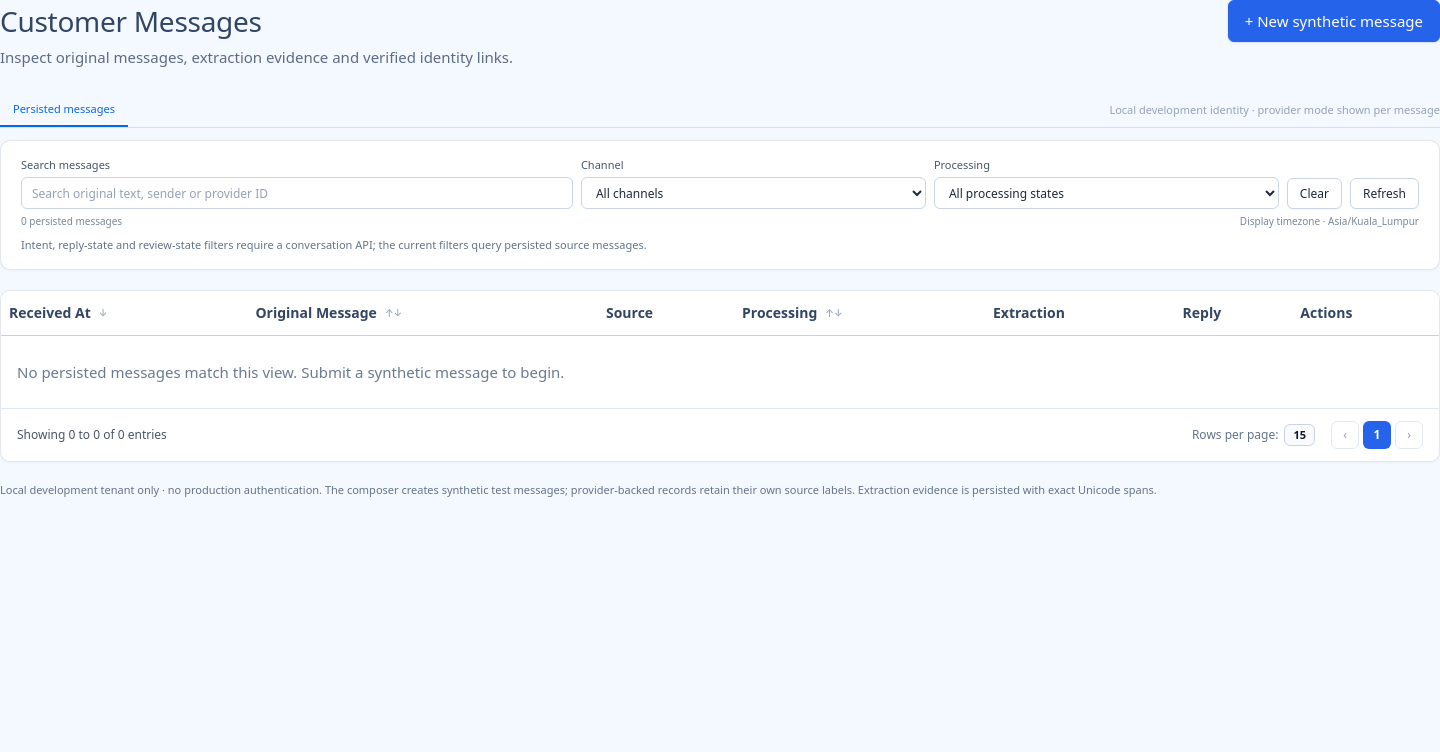
durable synthetic Inbox › retries the identical frozen payload after an uncertain response and prevents parallel submits
The width and height of the screenshot is (1440, 752).
Expected: the text "0 persisted messages" is shown, [21,214,122,229]
Click the button "+ New synthetic message": coordinates (1334, 21) [1228,0,1439,42]
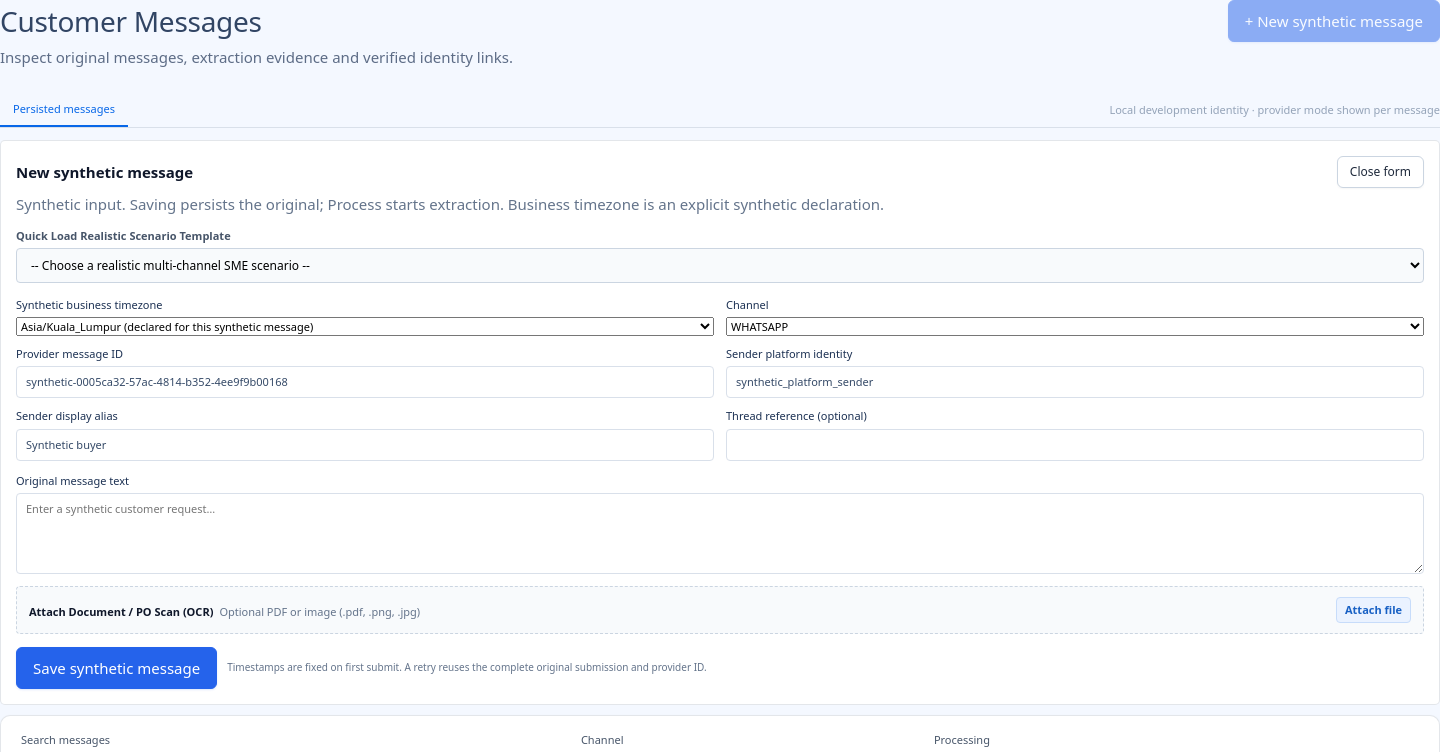
In the text box labelled "Original message text": coordinates (720, 533) [16,493,1424,574], type "Synthetic retry example"
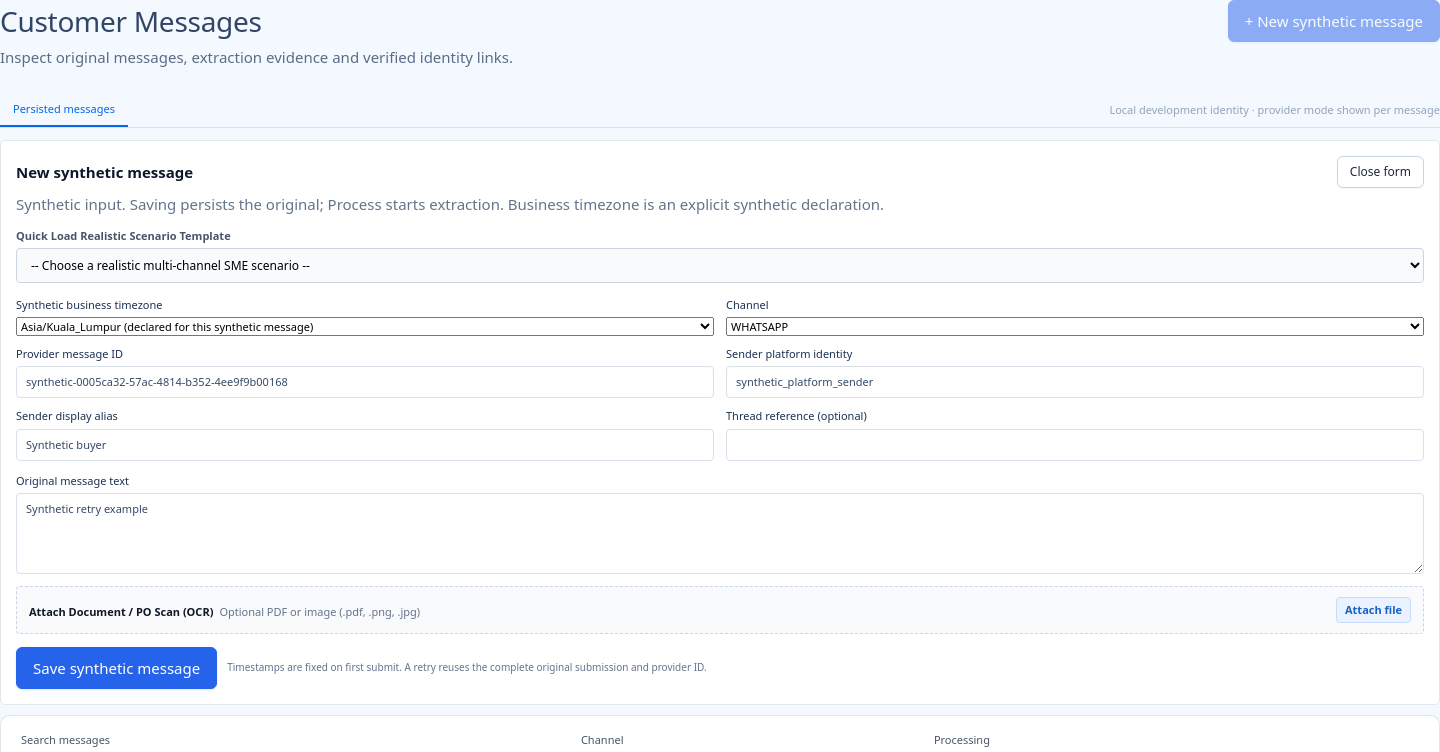
Click the button "Save synthetic message": coordinates (117, 668) [16,647,217,689]
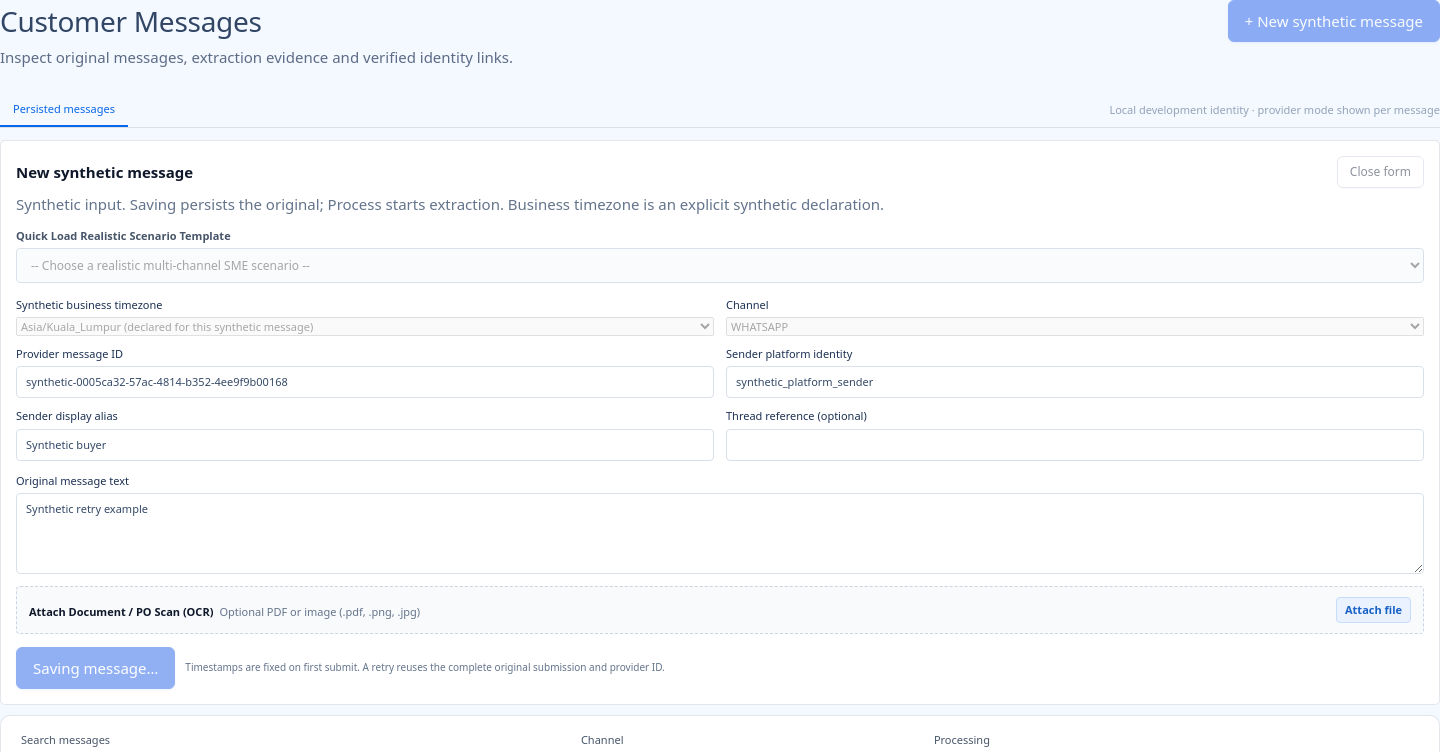
Expected: the button "Saving message…" is disabled
Click the button "Saving message…": coordinates (96, 668) [16,647,175,689]
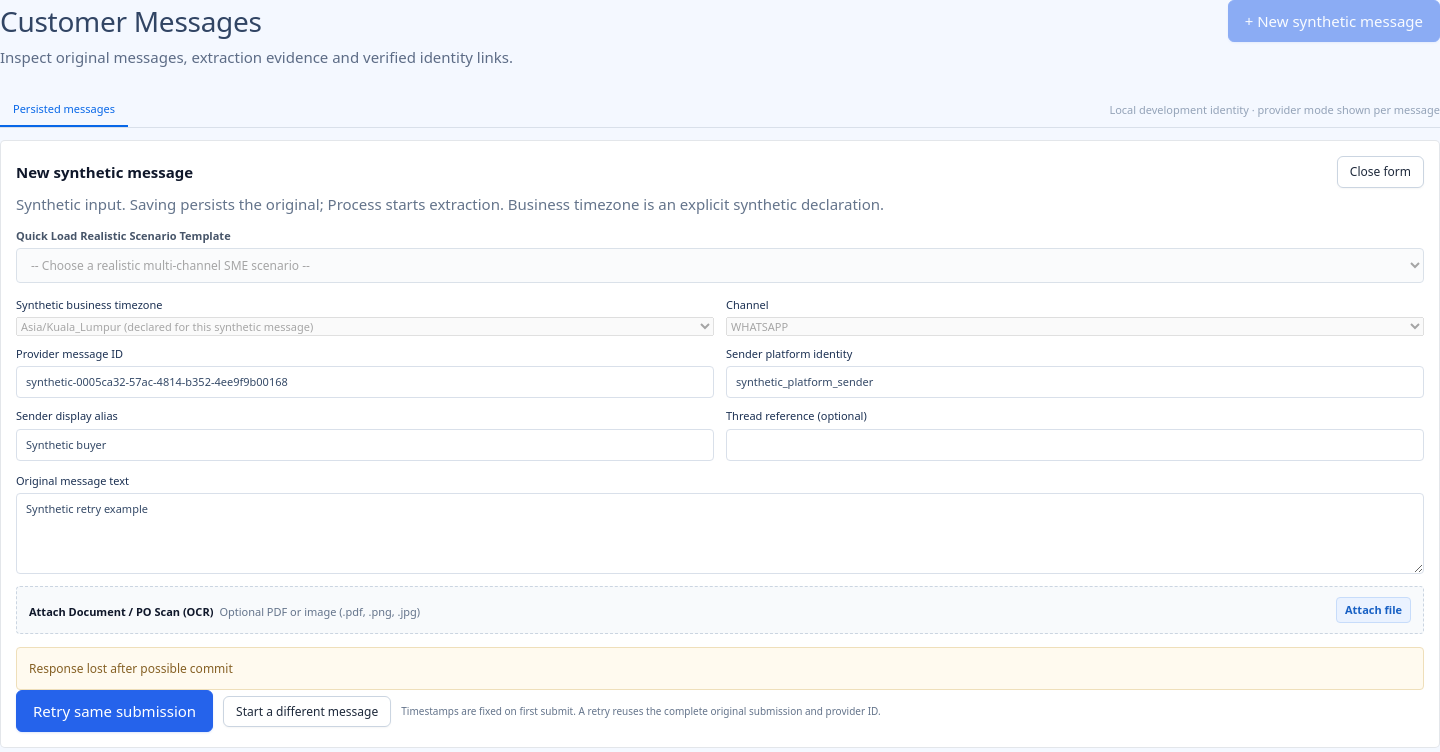
Expected: the field labelled "Provider message ID" is disabled, [16,366,714,398]
Expected: the message shows "Response lost", [29,660,233,677]
Click the button "Retry same submission": coordinates (115, 711) [16,690,213,732]
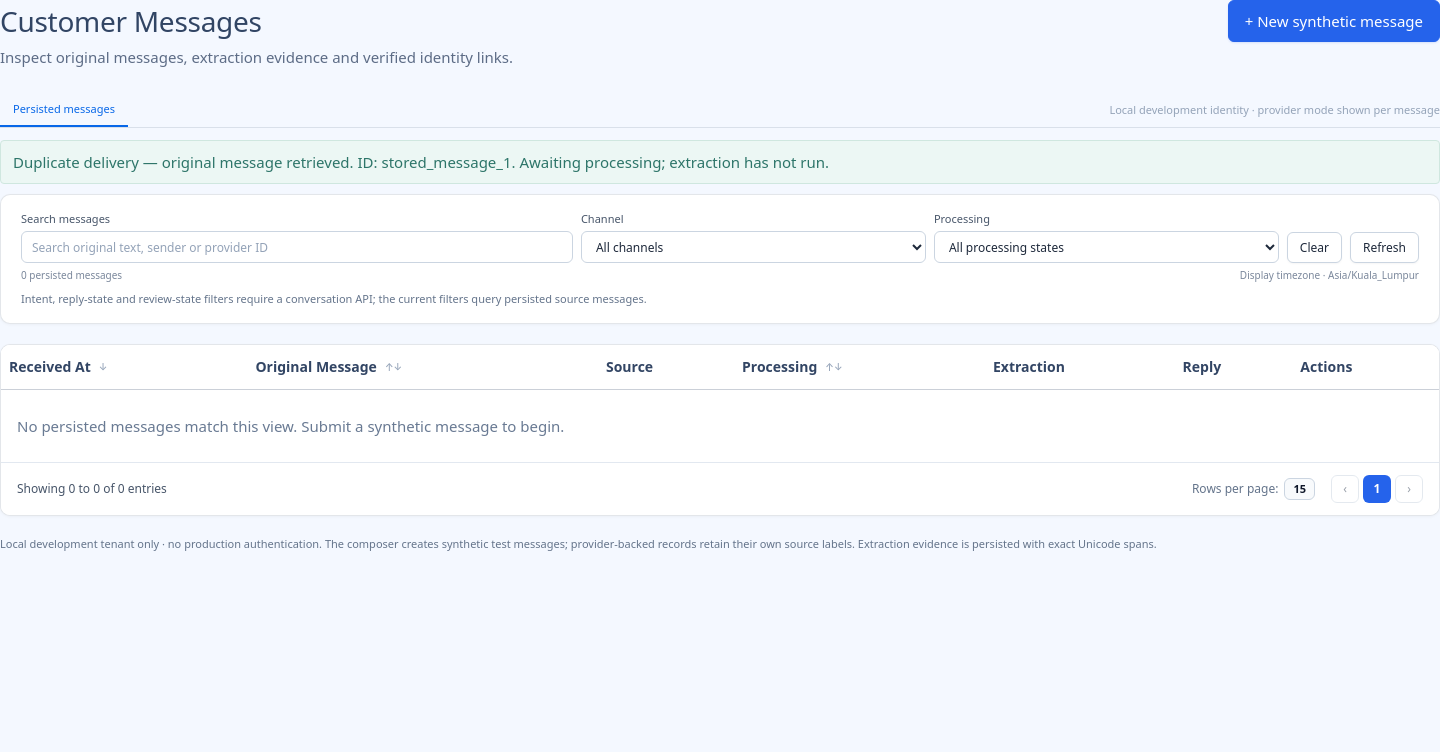
Expected: the text "Duplicate delivery — original message retrieved" is shown, [13,152,354,172]
